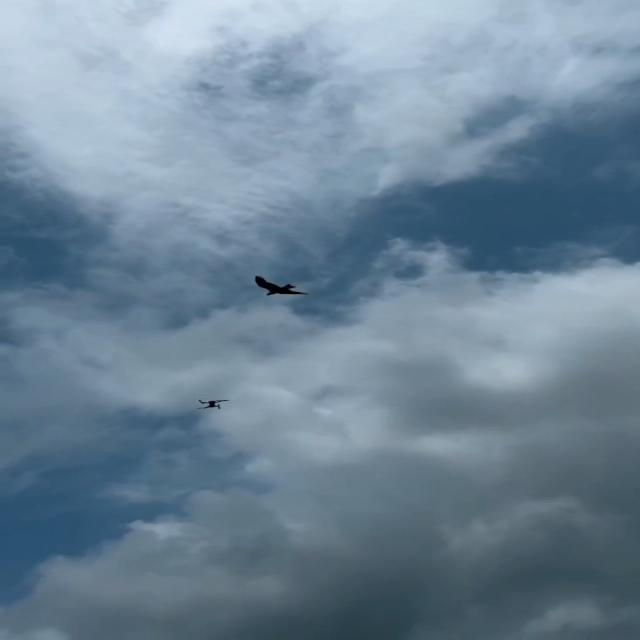bird: (254, 274, 308, 296)
drone: (196, 398, 228, 409)
